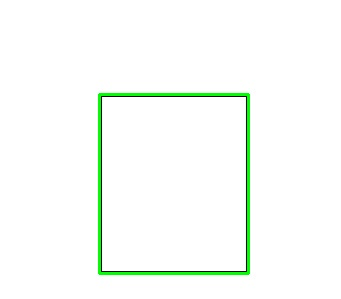line_segment: (98, 93, 250, 274)
